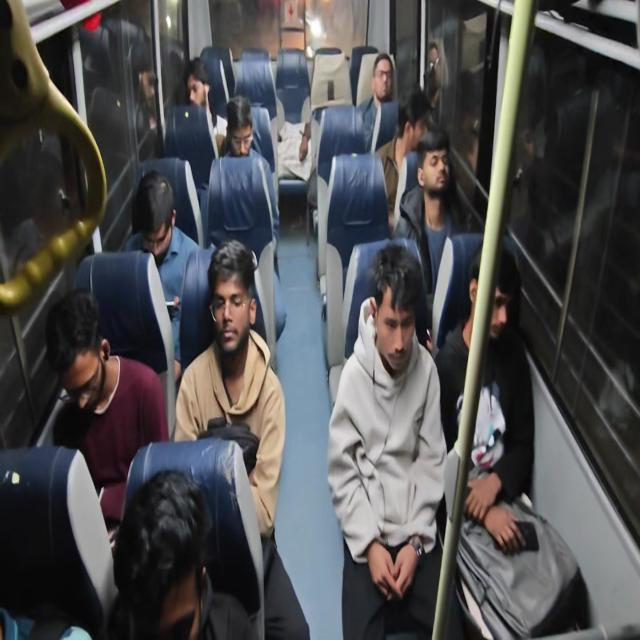person: (110, 504, 222, 640), (43, 312, 123, 412), (202, 242, 260, 368), (466, 245, 523, 372), (368, 249, 422, 380), (130, 166, 176, 262), (397, 89, 431, 144), (224, 98, 256, 156), (414, 147, 456, 191), (181, 62, 210, 110), (371, 59, 396, 97)
